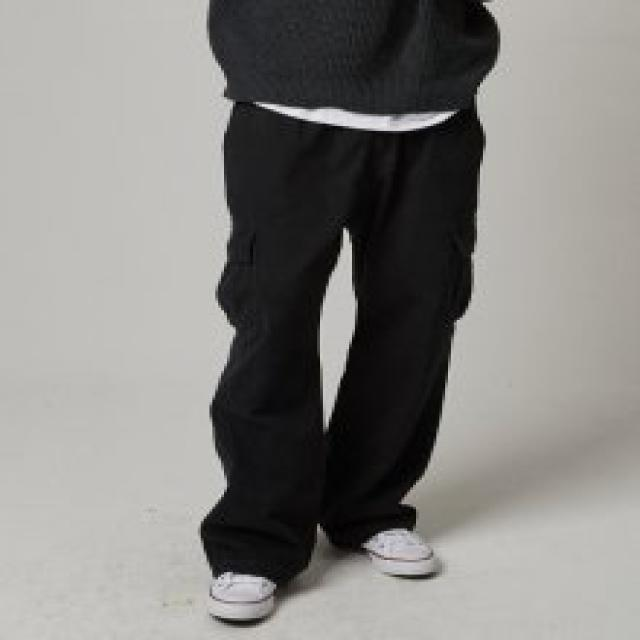long-pants: (202, 99, 484, 586)
